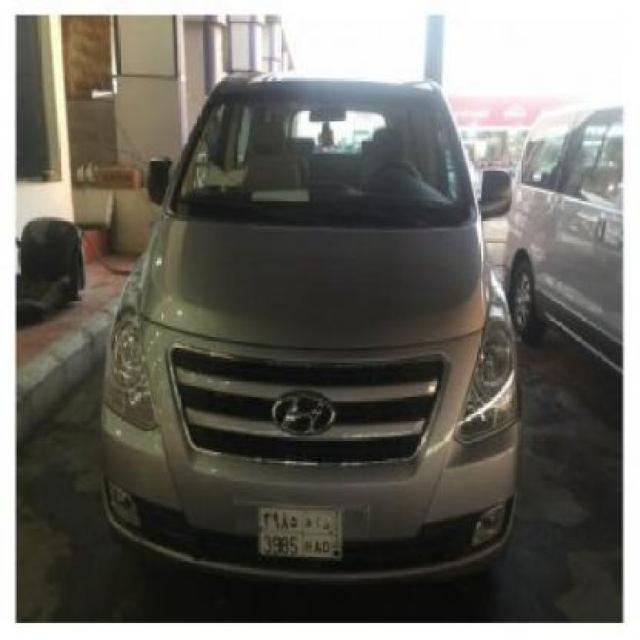license_plate: (258, 503, 344, 563)
